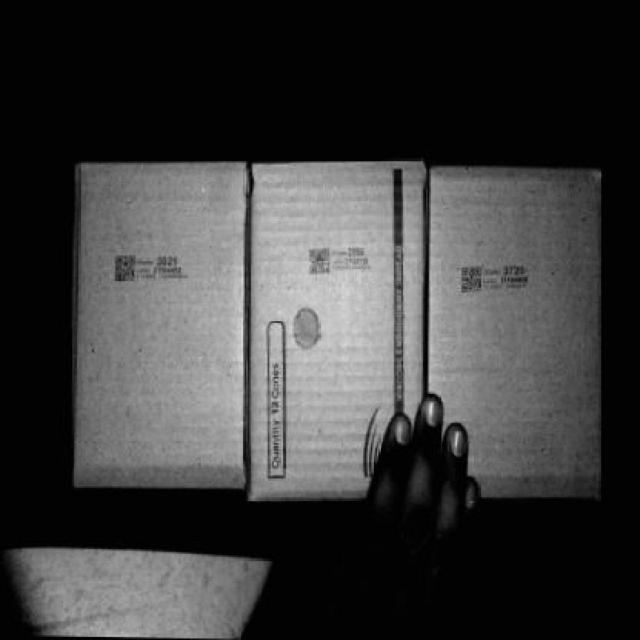cardboxes: (250, 162, 433, 482), (76, 158, 252, 484), (434, 170, 608, 496)
